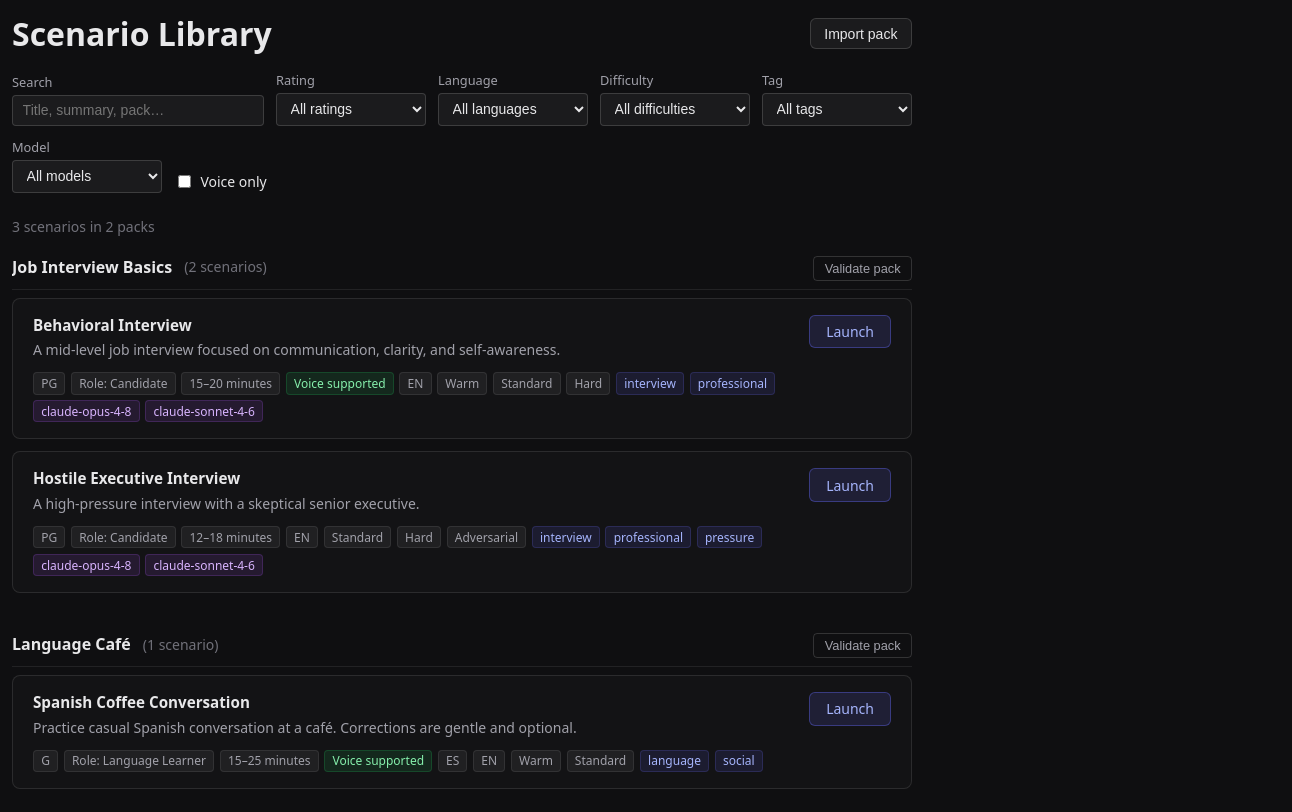
search › search filters by summary text
Expected: the heading "Behavioral Interview" is shown, [33,315,192,335]
Step 1. Type "casual Spanish" into the search field named "search scenarios" → (138, 110), box [12,95,264,126]
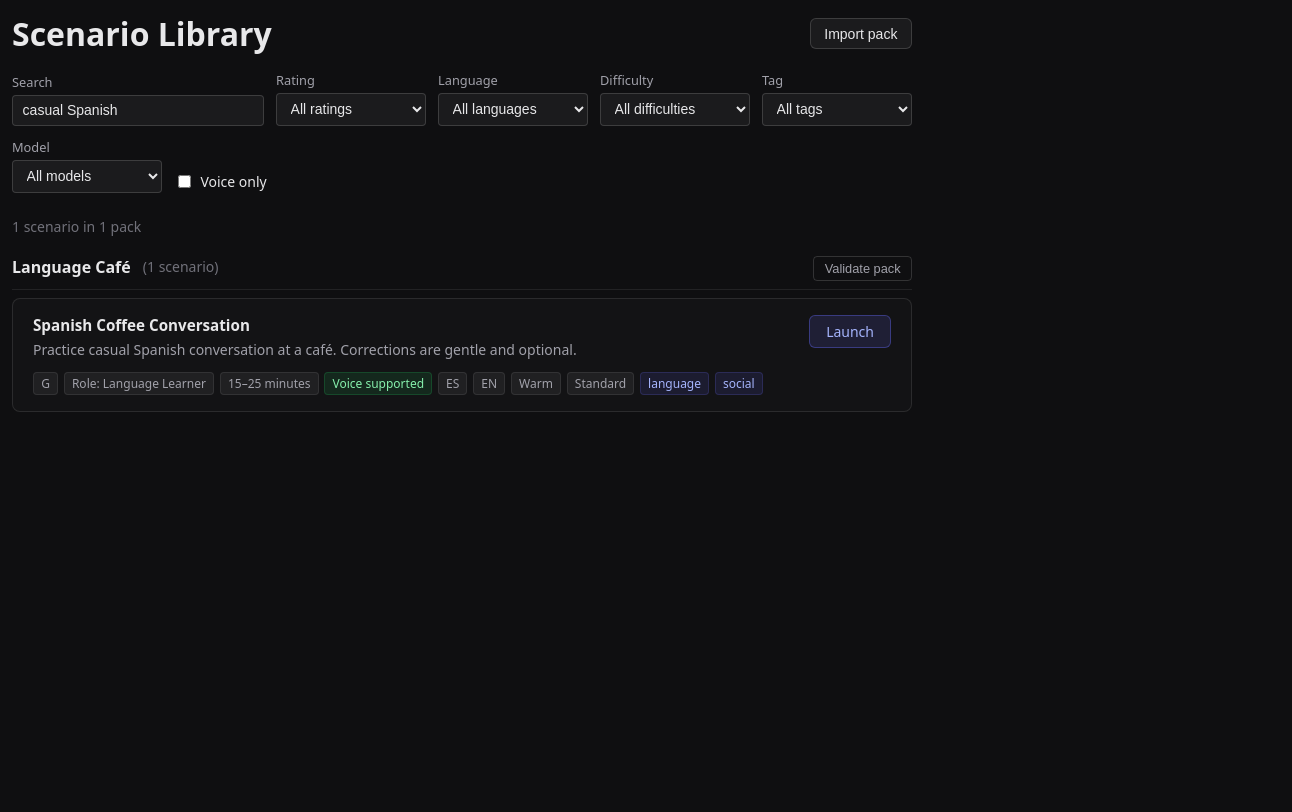
Expected: the heading "Spanish Coffee Conversation" is shown, [33,315,250,335]
Expected: the heading "Behavioral Interview" is gone
